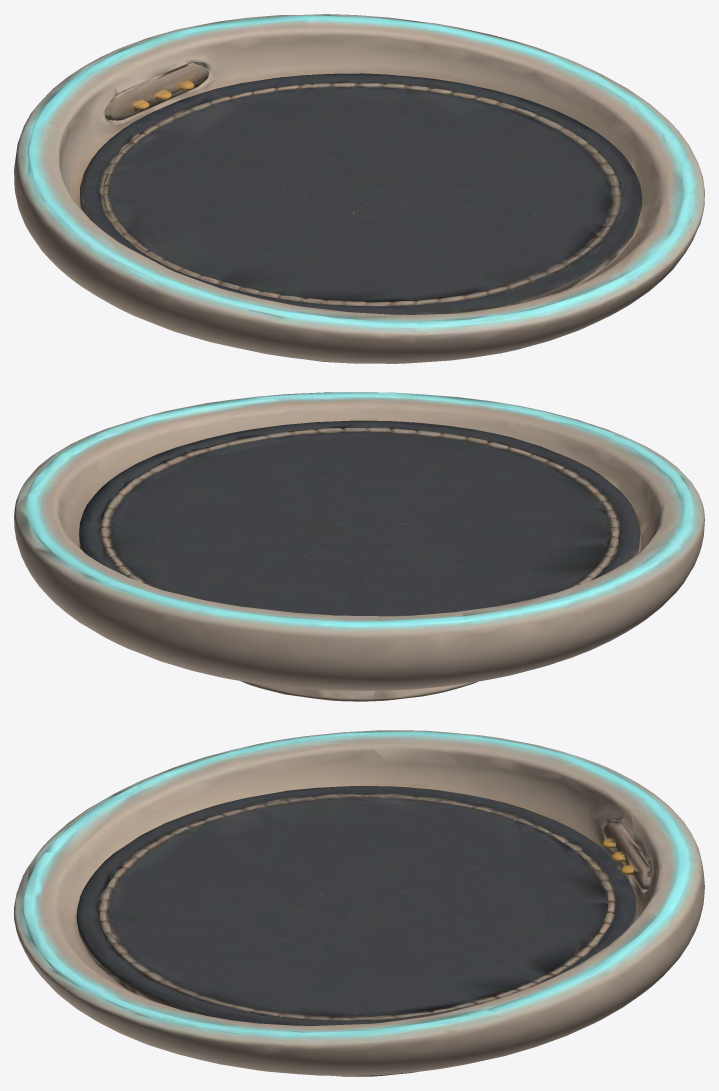
The model's file is dock.medium.glb.
The picture shows the model from 3 angles, top to bottom: view 1: azimuth 30°, elevation 25°; view 2: azimuth 150°, elevation 25°; view 3: azimuth 270°, elevation 25°; orthographic projection.
Visible parts, largest first — view 1: tripo_node_fc9dbdd1-13e9-4fe1-a3a2-e0e570959ab2; view 2: tripo_node_fc9dbdd1-13e9-4fe1-a3a2-e0e570959ab2; view 3: tripo_node_fc9dbdd1-13e9-4fe1-a3a2-e0e570959ab2.
Part boxes in pixels (<box>): tripo_node_fc9dbdd1-13e9-4fe1-a3a2-e0e570959ab2: <box>14,14,704,363</box>; tripo_node_fc9dbdd1-13e9-4fe1-a3a2-e0e570959ab2: <box>14,392,704,701</box>; tripo_node_fc9dbdd1-13e9-4fe1-a3a2-e0e570959ab2: <box>14,730,704,1076</box>.
Bounding box in the file's own units: 0.2999 × 0.07 × 0.2999.
Materials: 1 (1 with a texture image).
